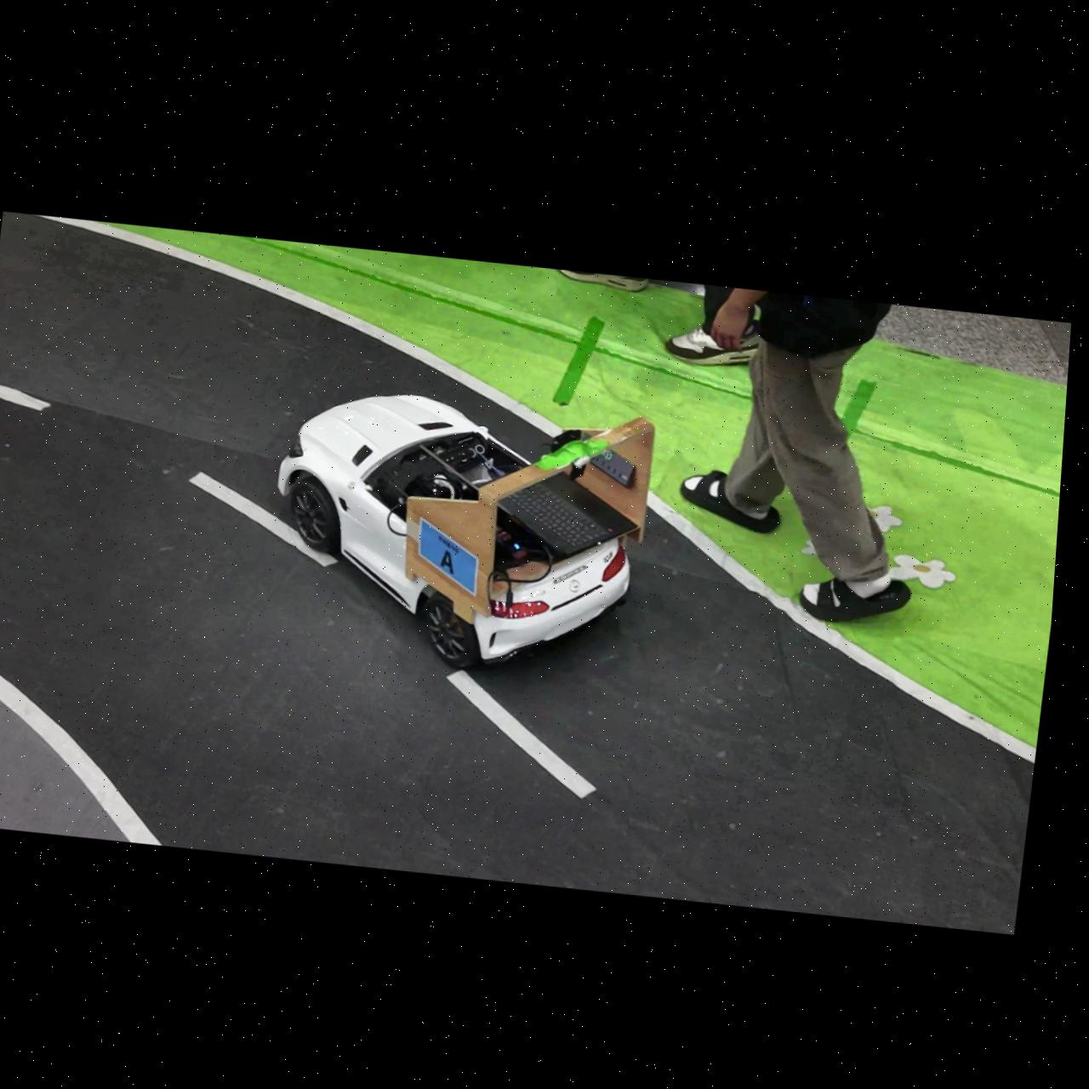broken_line: (445, 669, 597, 798), (187, 471, 338, 567), (0, 385, 51, 411)
